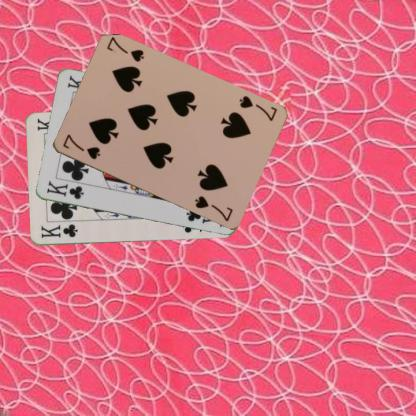7s: (60, 131, 102, 161), (236, 93, 278, 123)
Kc: (44, 179, 85, 201), (38, 222, 79, 239)
